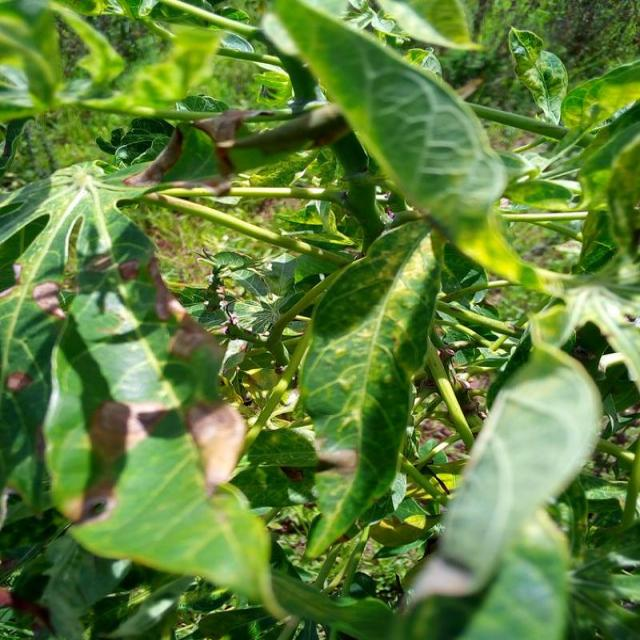cassava leaf: (272, 0, 562, 299), (298, 213, 442, 560)
